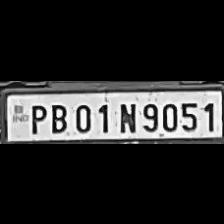0: (70, 100, 94, 132), (159, 98, 177, 130)
1: (93, 100, 112, 132), (200, 99, 216, 131)
5: (177, 97, 199, 130)
9: (139, 99, 159, 131)
B: (48, 101, 68, 133)
N: (114, 99, 138, 133)
P: (26, 100, 46, 134)
